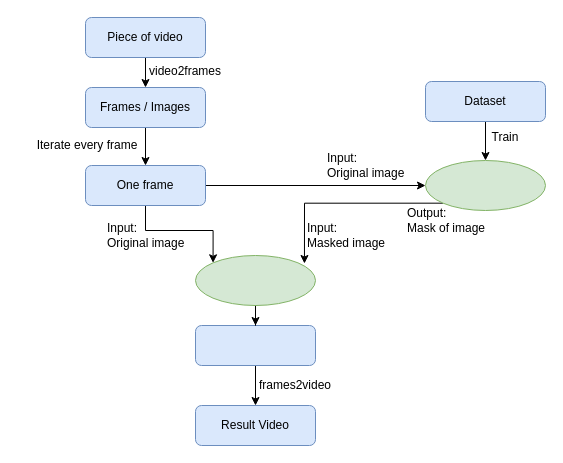
This 563x463 diagram has some shape labels left out. Each missing label, with the centre of its shape:
"Classifer" belongs at [485,185].
"mosaic images" belongs at [255,345].
"Mosaic maker" belongs at [255,280].
